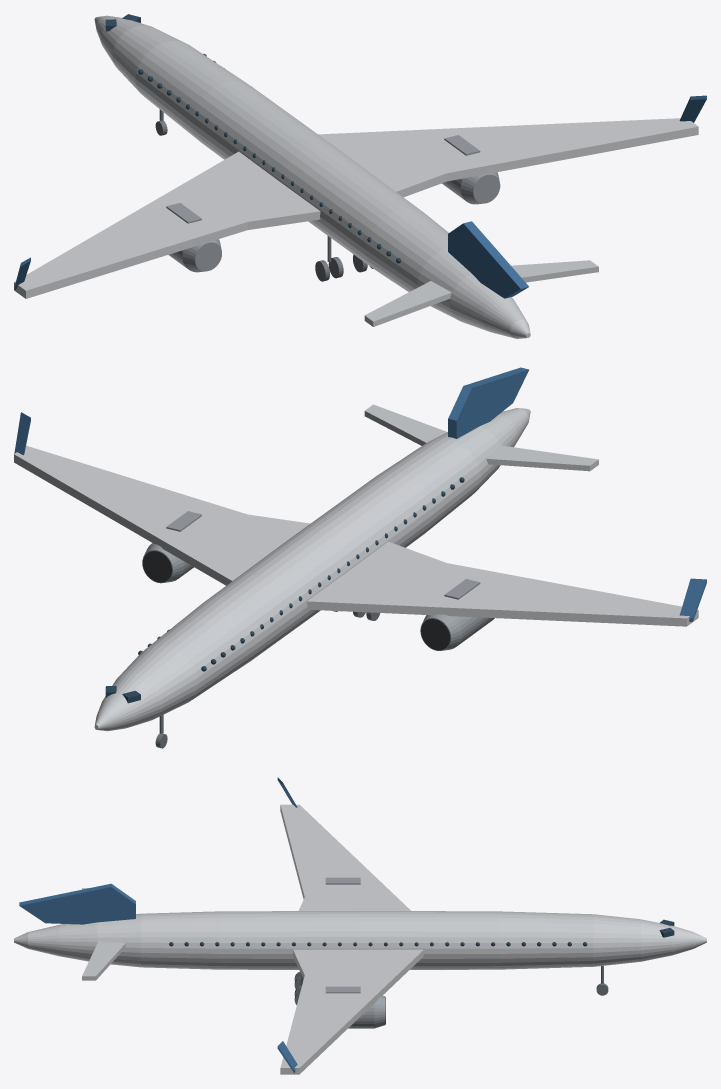
File: boeing737-800.glb
The picture shows the model from 3 angles, top to bottom: view 1: azimuth 30°, elevation 25°; view 2: azimuth 150°, elevation 25°; view 3: azimuth 270°, elevation 25°; orthographic projection. The views are drawn at different scales.
Parts seen in each view (by area): view 1: Boeing737; view 2: Boeing737; view 3: Boeing737.
Part boxes in pixels (box(x1,y1,x2,y2)): Boeing737: box(14, 14, 706, 338); Boeing737: box(14, 367, 706, 748); Boeing737: box(14, 777, 706, 1074).
Size of the model in its own units: 36.5 by 7.08 by 39.8.
